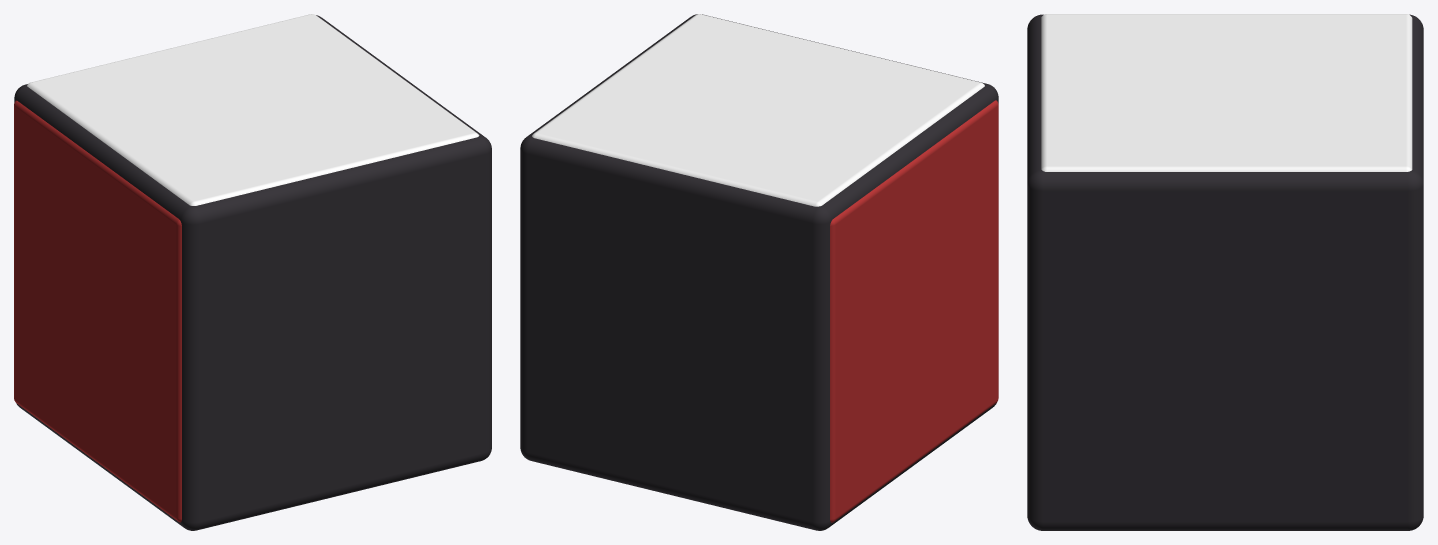
The model's file is wrEdge.obj.
3 views of the same model, side by side, from view 1: azimuth 30°, elevation 25°; view 2: azimuth 150°, elevation 25°; view 3: azimuth 270°, elevation 25° (orthographic). The views are drawn at different scales.
Visible parts, largest first — view 1: 000_Base, 001_red, 002_white; view 2: 000_Base, 001_red, 002_white; view 3: 000_Base, 002_white.
Boxes of the visible parts, box(x1,y1,x2,y2) form: 000_Base: box(14, 15, 491, 530); 001_red: box(14, 100, 181, 522); 002_white: box(27, 14, 479, 205); 000_Base: box(520, 14, 998, 530); 001_red: box(830, 100, 998, 522); 002_white: box(532, 14, 984, 206); 000_Base: box(1027, 14, 1423, 530); 002_white: box(1041, 14, 1412, 171).
Bounding box in the file's own units: 101 × 101 × 100.
